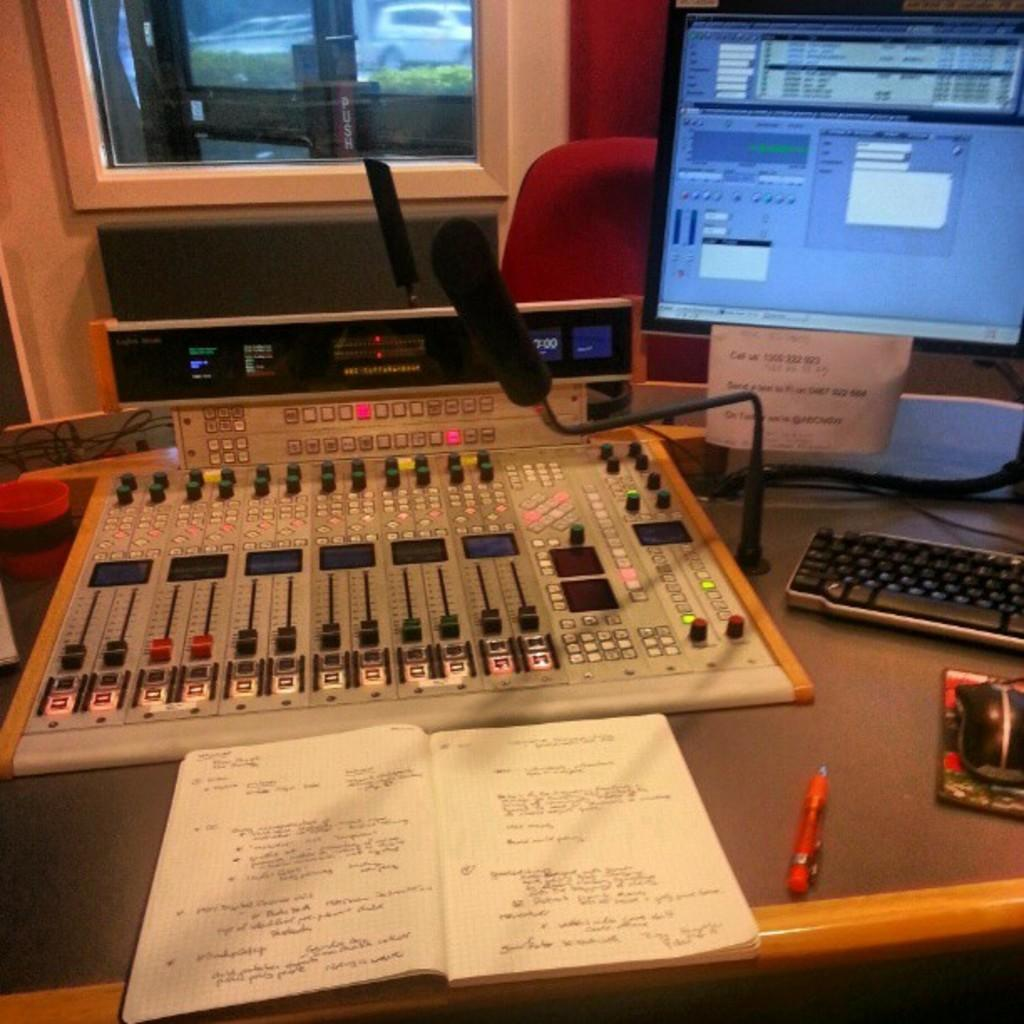Computer-keyboard: (781, 524, 1022, 654)
Computer-monitor: (639, 0, 1022, 365)
